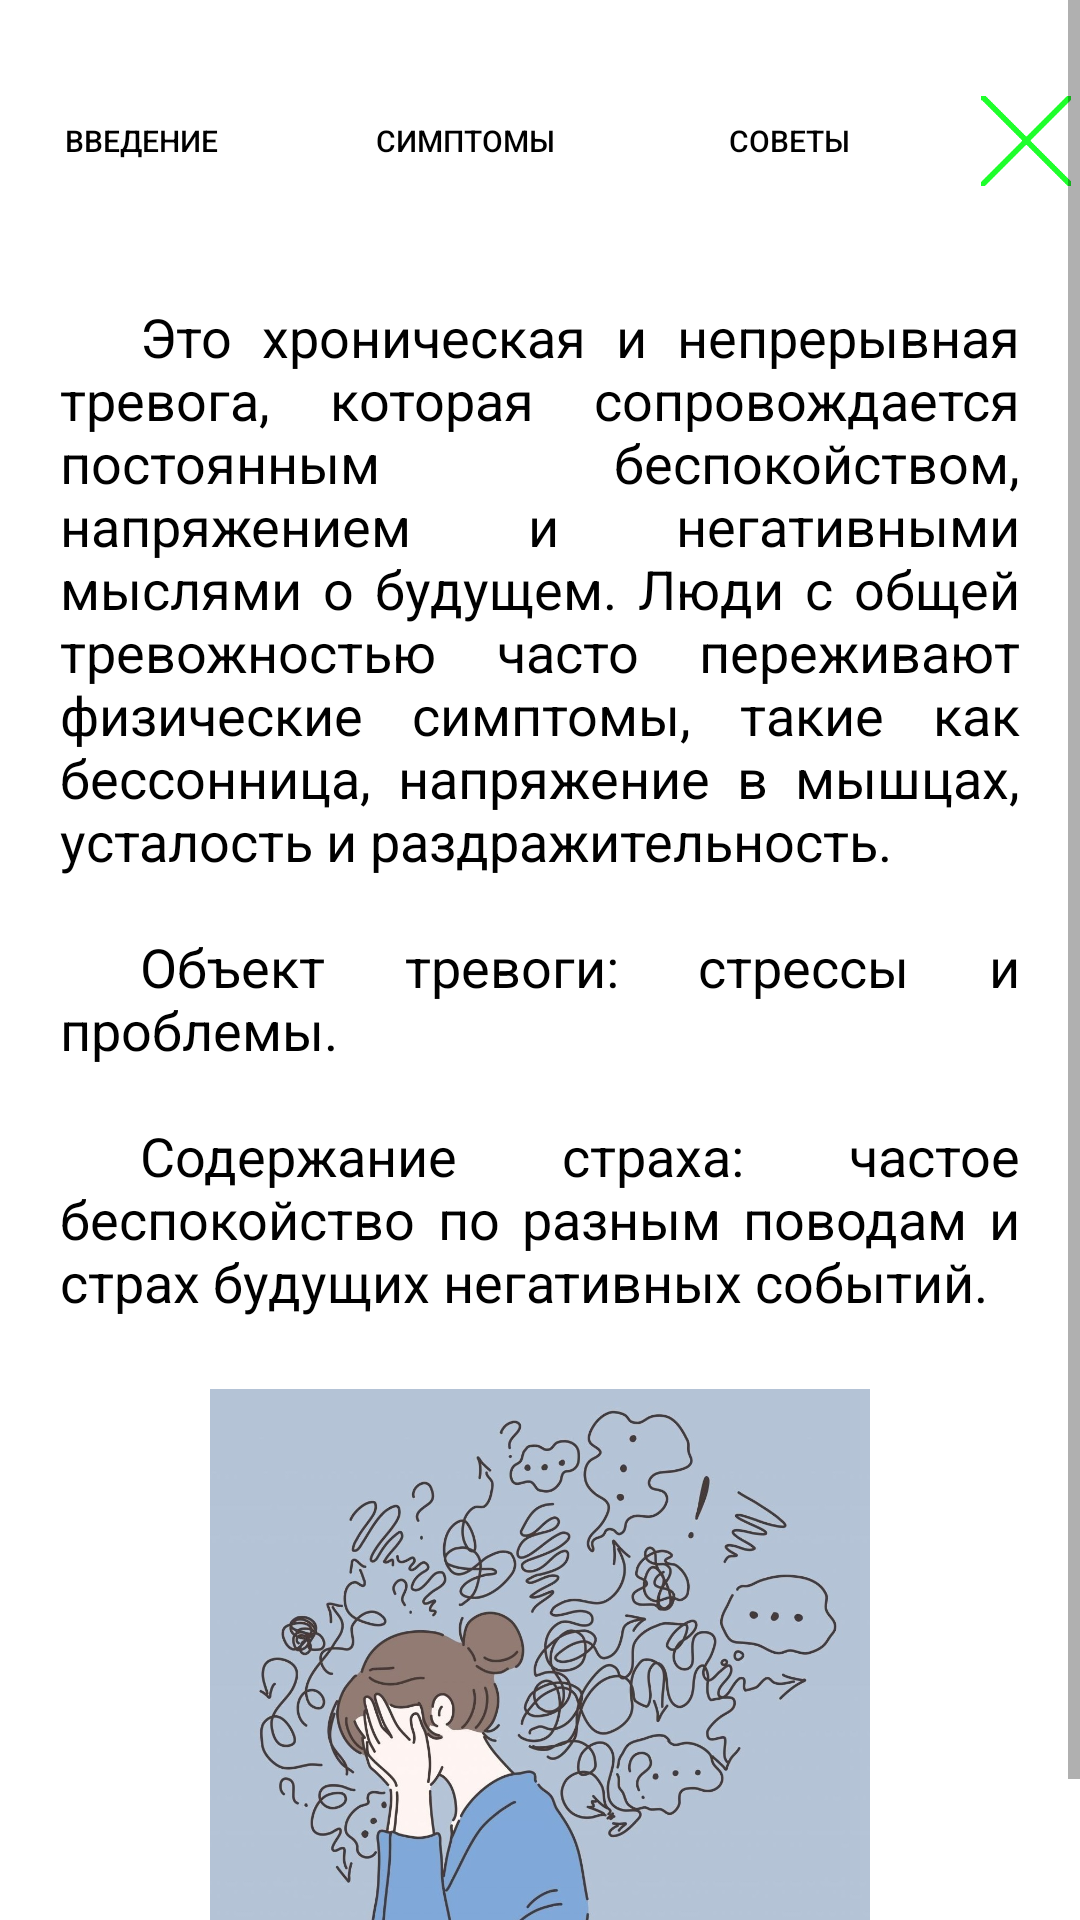

Screen size 1080×1920. Icon name, then its center in pixels as point (x, y):
close: point (1026, 141)
